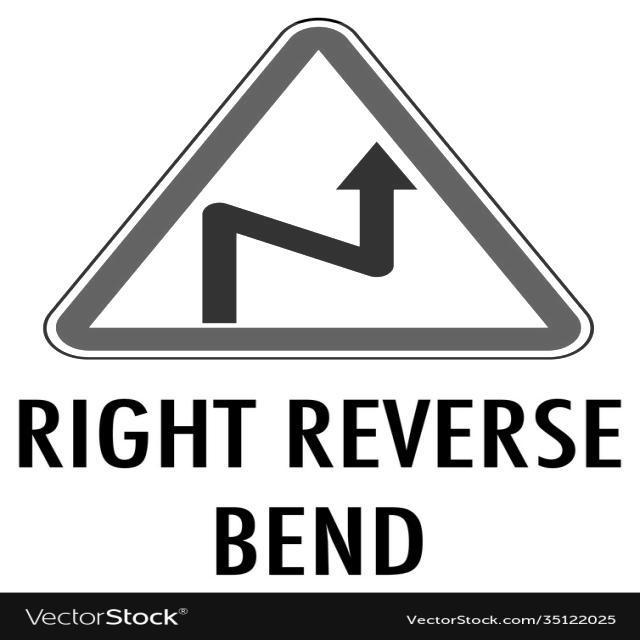right reverse bend: (46, 19, 597, 364)
